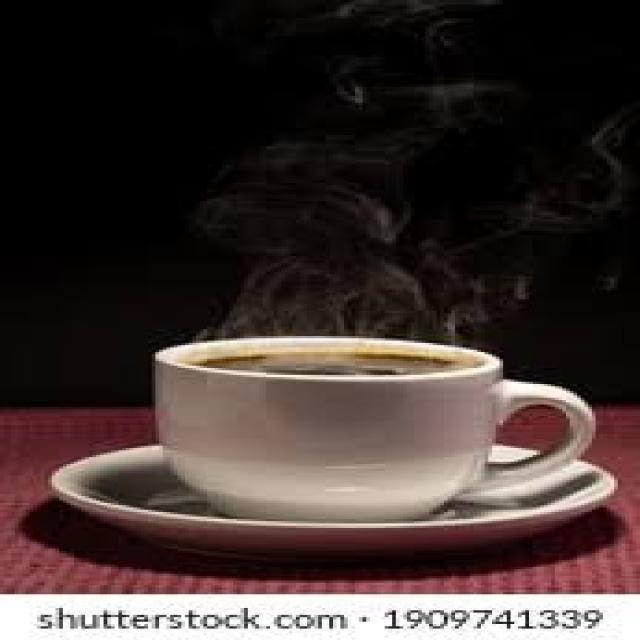taza: (141, 311, 604, 526)
